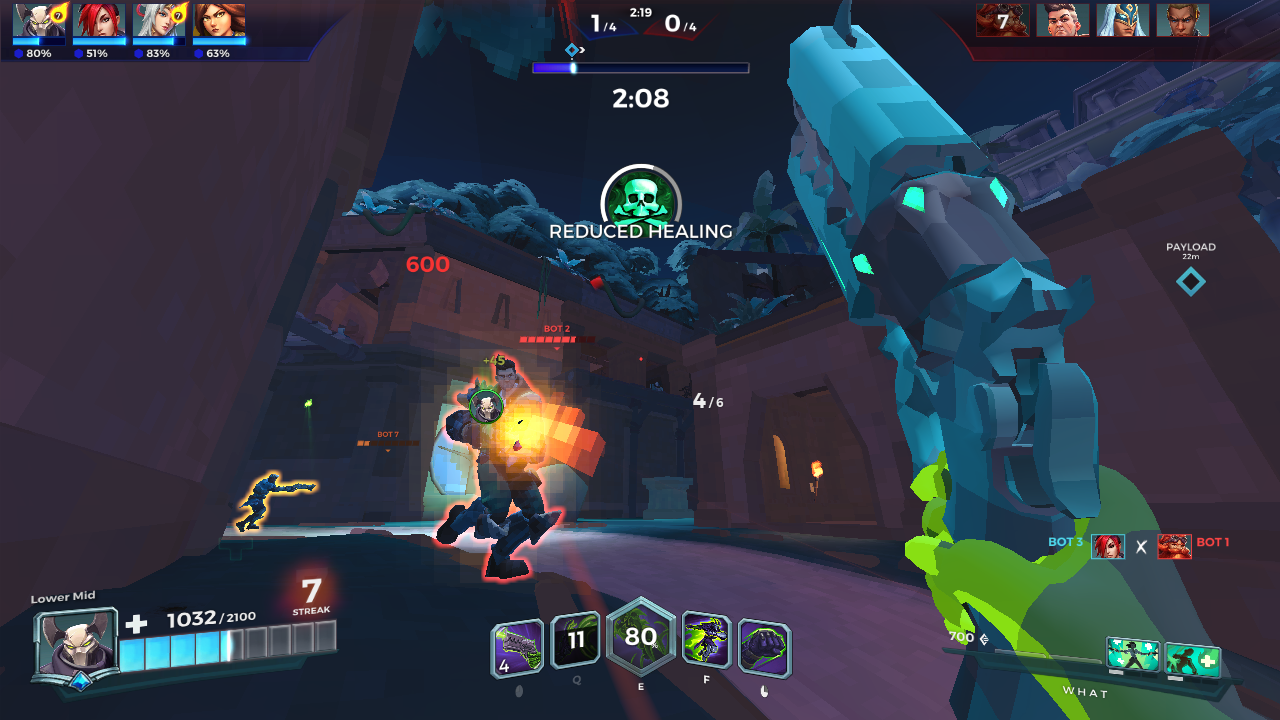model: (458, 340, 552, 598), (242, 462, 285, 537)
